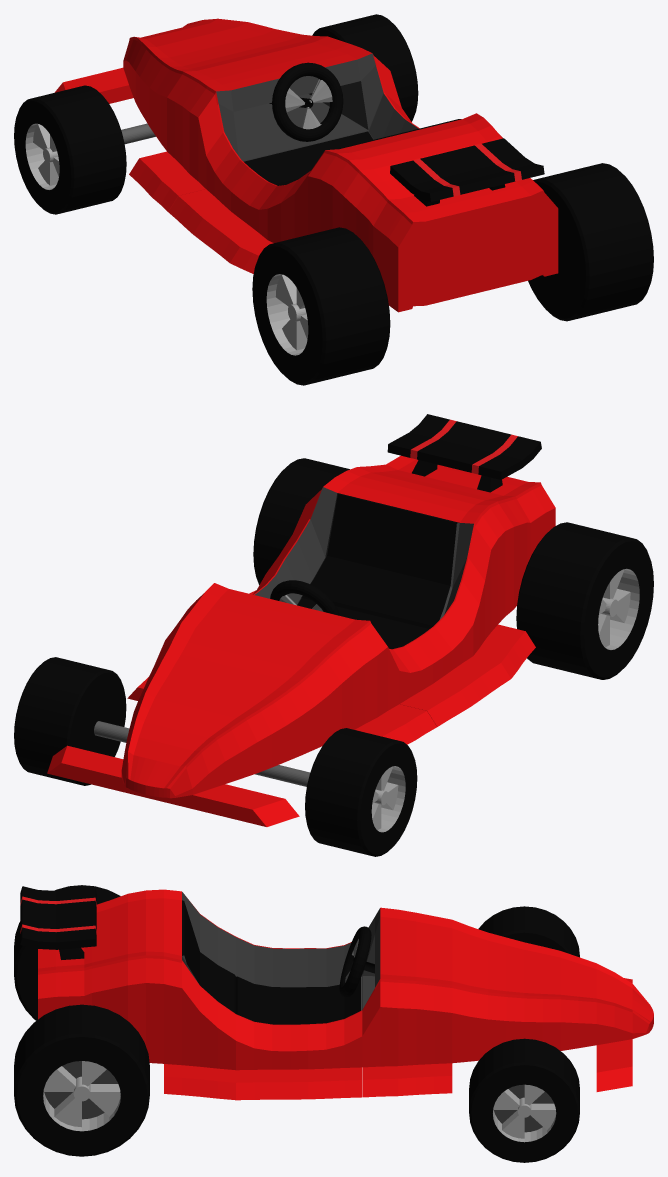
Rendered from basic_kart_tutorial.fbx.
The picture shows the model from 3 angles, top to bottom: view 1: azimuth 30°, elevation 25°; view 2: azimuth 150°, elevation 25°; view 3: azimuth 270°, elevation 25°; orthographic projection. The views are drawn at different scales.
Visible parts, largest first — view 1: Body, LeftRearWheel, RightRearWheel, LeftFrontWheel, RightFrontWheel, SteeringWheel; view 2: Body, LeftRearWheel, LeftFrontWheel, RightFrontWheel, RightRearWheel, FrontAxle, SteeringWheel; view 3: Body, RightRearWheel, RightFrontWheel, LeftFrontWheel, LeftRearWheel, SteeringWheel.
Part boxes in pixels (<box>): Body: <box>54,18,558,312</box>; LeftRearWheel: <box>252,227,390,385</box>; RightRearWheel: <box>528,163,653,321</box>; LeftFrontWheel: <box>14,85,126,214</box>; RightFrontWheel: <box>312,14,418,121</box>; SteeringWheel: <box>269,62,343,141</box>; Body: <box>47,414,555,826</box>; LeftRearWheel: <box>516,522,653,679</box>; LeftFrontWheel: <box>305,728,417,856</box>; RightFrontWheel: <box>14,657,126,785</box>; RightRearWheel: <box>253,458,349,584</box>; FrontAxle: <box>94,721,309,786</box>; SteeringWheel: <box>270,580,339,615</box>; Body: <box>20,886,653,1100</box>; RightRearWheel: <box>14,1004,149,1156</box>; RightFrontWheel: <box>469,1038,579,1162</box>; LeftFrontWheel: <box>478,906,579,957</box>; LeftRearWheel: <box>14,885,120,1020</box>; SteeringWheel: <box>339,926,374,997</box>.
Size of the model in its own units: 926 by 475 by 1590.
